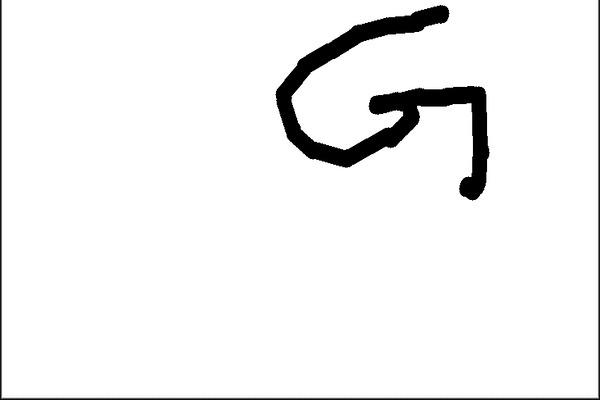G: (269, 2, 493, 205)
